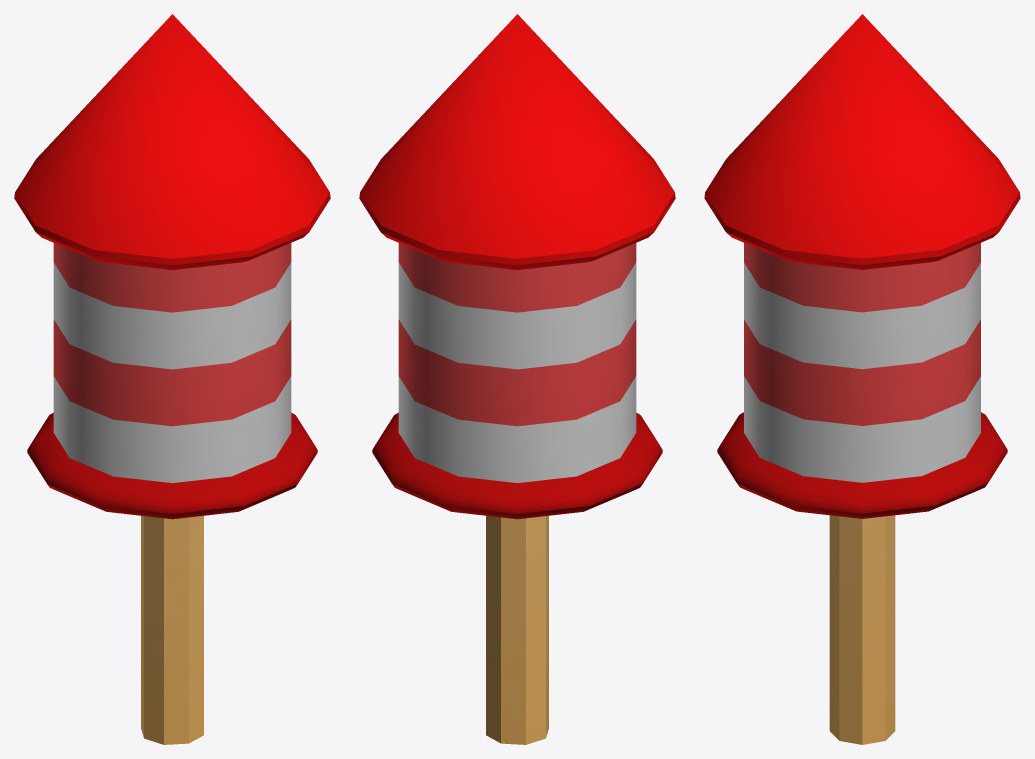
Rendered from firework.glb.
3 views of the same model, side by side, from view 1: azimuth 30°, elevation 25°; view 2: azimuth 150°, elevation 25°; view 3: azimuth 270°, elevation 25° (orthographic).
Visible parts, largest first — view 1: Rocket, Stick; view 2: Rocket, Stick; view 3: Rocket, Stick.
Boxes of the visible parts, x1,y1,x2,y2 form: Rocket: (14,14,330,519); Stick: (141,515,203,744); Rocket: (359,14,675,519); Stick: (486,515,548,744); Rocket: (704,14,1020,518); Stick: (829,515,895,744).
Bounding box in the file's own units: 1.29 × 3.22 × 1.29.
Materials: 1 (1 with a texture image).
